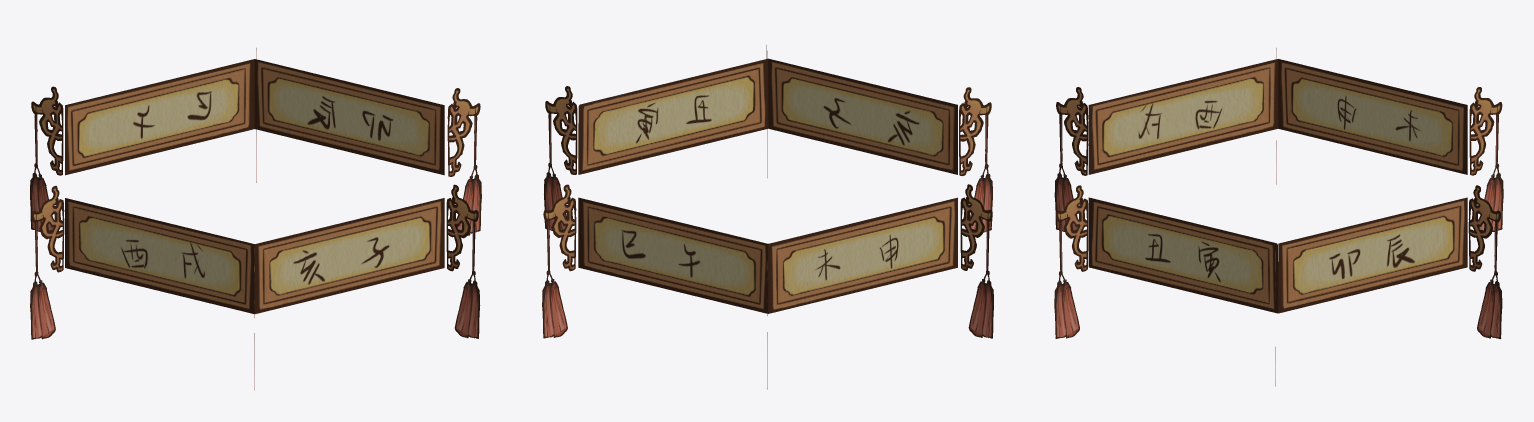
The picture shows the model from 3 angles, left to right: view 1: azimuth 30°, elevation 25°; view 2: azimuth 150°, elevation 25°; view 3: azimuth 270°, elevation 25°; orthographic projection.
Visible parts, largest first — view 1: NGon005, Rectangle008, Rectangle010, Rectangle007, Rectangle012; view 2: NGon005, Rectangle011, Rectangle008, Rectangle007, Rectangle009; view 3: NGon005, Rectangle010, Rectangle011, Rectangle012, Rectangle009.
Part boxes in pixels (x1,y1,x2,y2): NGon005: (65, 59, 444, 313); Rectangle008: (30, 186, 64, 339); Rectangle010: (446, 184, 480, 338); Rectangle007: (447, 88, 481, 235); Rectangle012: (30, 86, 63, 231); NGon005: (578, 58, 957, 313); Rectangle011: (542, 184, 576, 338); Rectangle008: (960, 184, 993, 338); Rectangle007: (544, 86, 577, 230); Rectangle009: (959, 87, 992, 232); NGon005: (1088, 59, 1467, 313); Rectangle010: (1054, 185, 1088, 338); Rectangle011: (1468, 185, 1502, 339); Rectangle012: (1469, 87, 1503, 233); Rectangle009: (1054, 87, 1088, 231).
Bounding box in the file's own units: 448 × 141 × 387.
